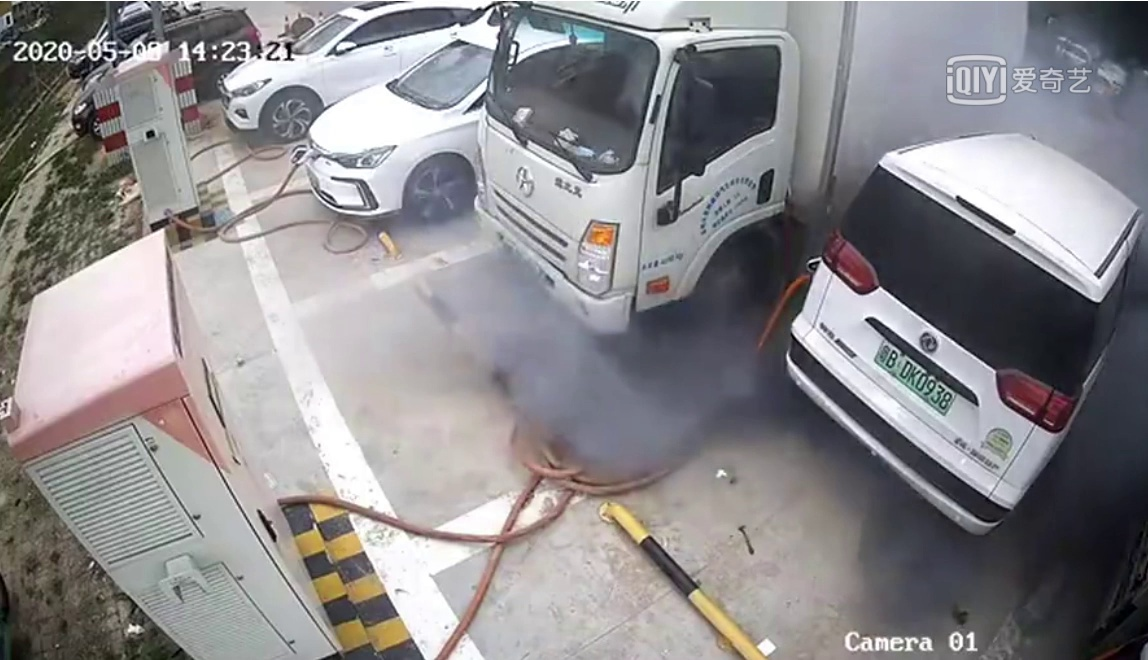smoke: (447, 292, 772, 461), (845, 478, 958, 617), (1054, 349, 1131, 541)
